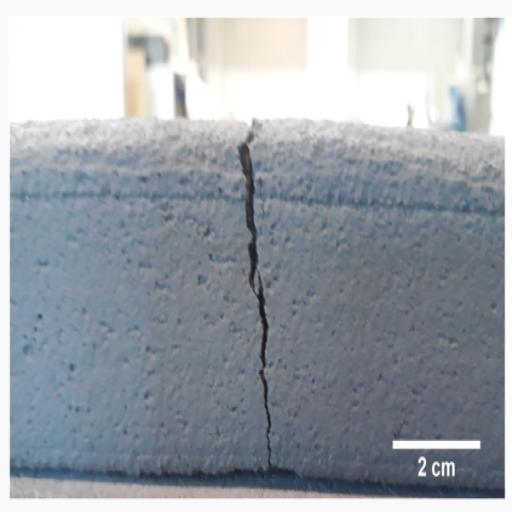cracks: (224, 89, 302, 481)
